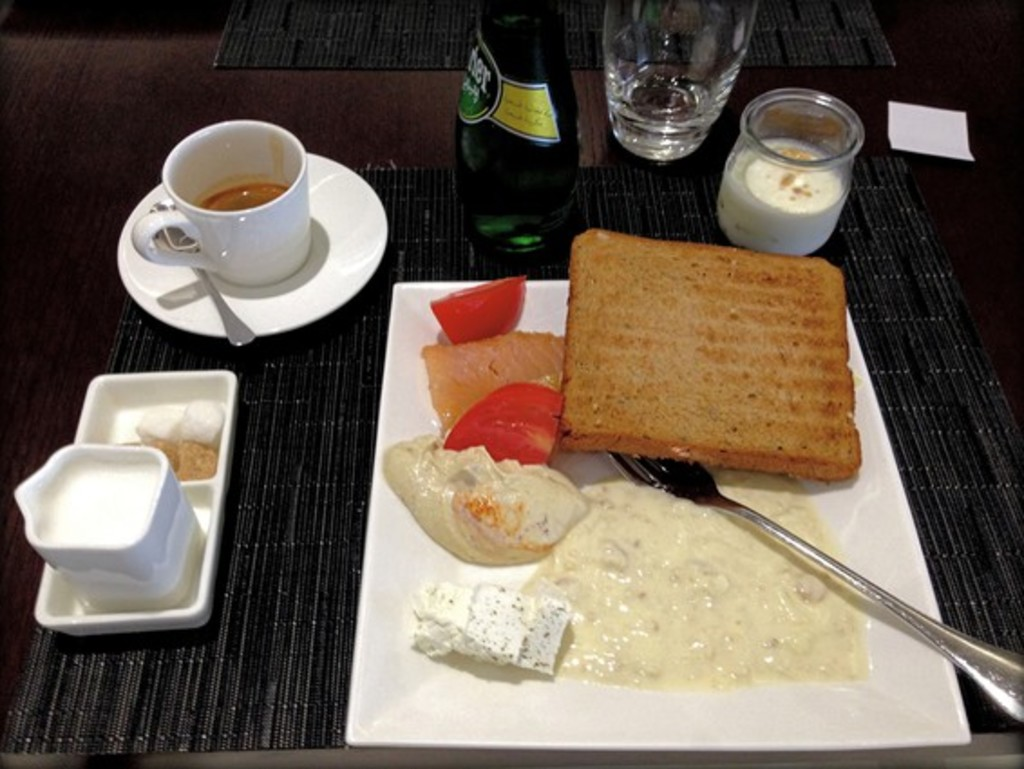sandwich: (552, 228, 865, 483)
